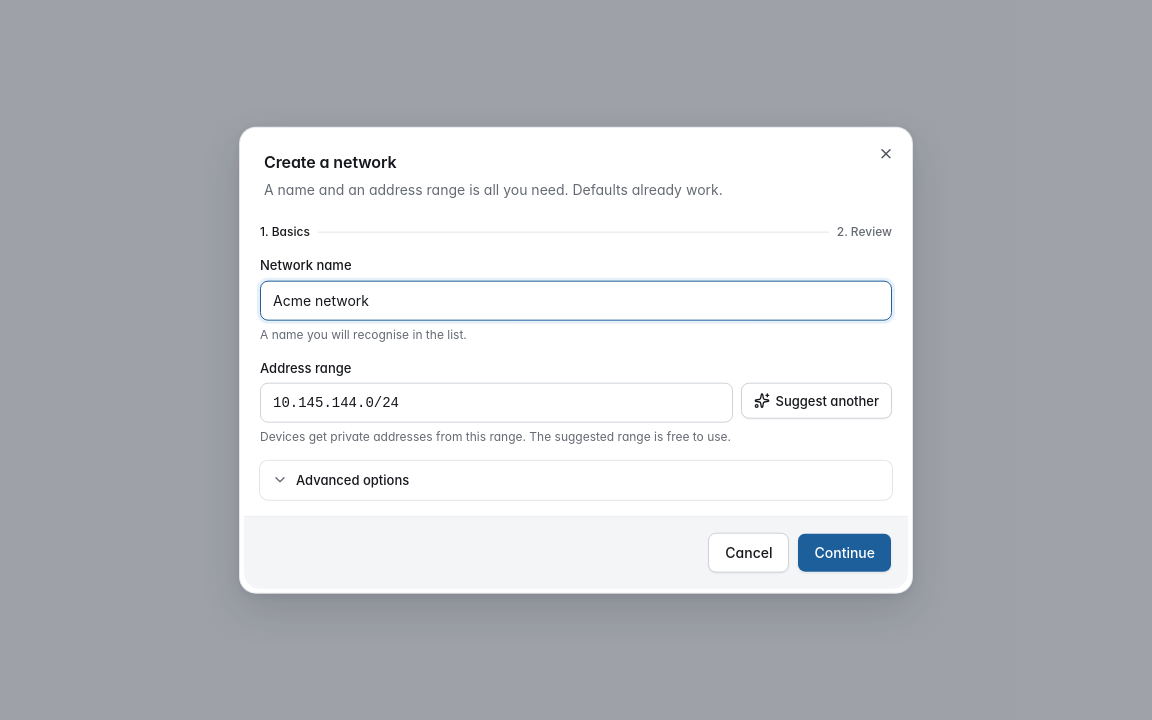
Test case: NewNetworkDialog › suggests a name and a free private range, with advanced options collapsed
Expected: the field showing "Acme network" is shown, [260,280,892,320]
Expected: the field showing "10.145.144.0/24" is shown, [260,383,732,423]
Click the button "Advanced options": (353, 480) [260,461,892,499]
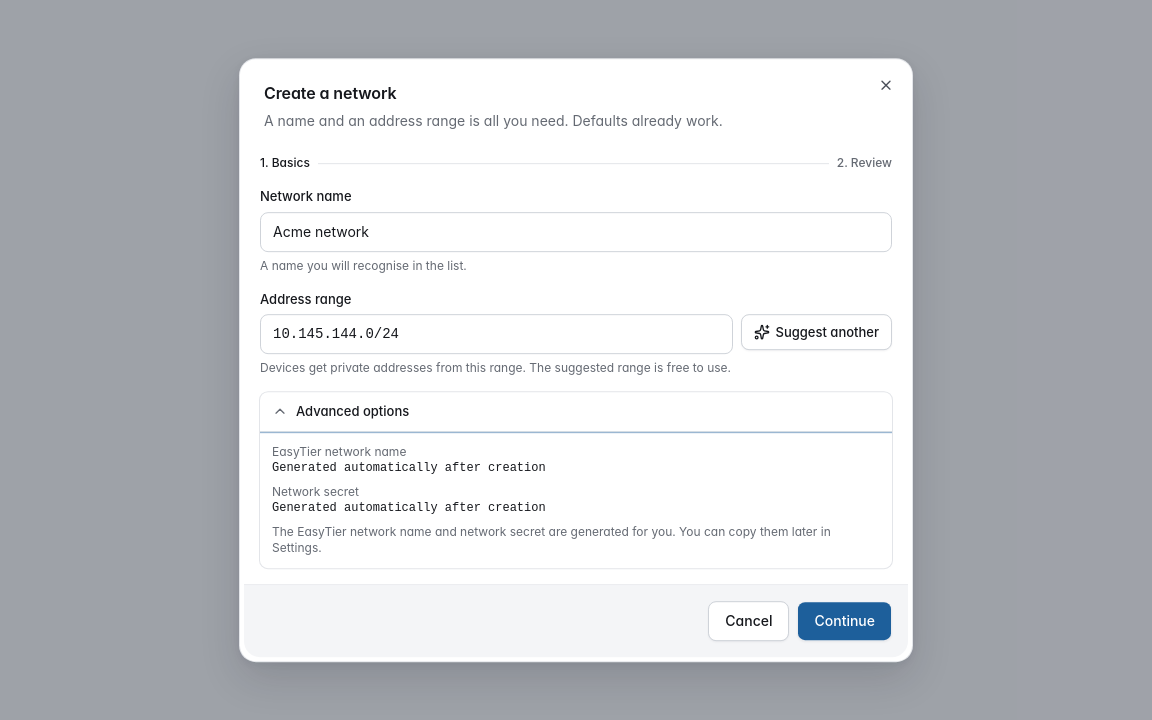
Expected: the 1st text "Generated automatically after creation" is shown, [272,461,546,475]
